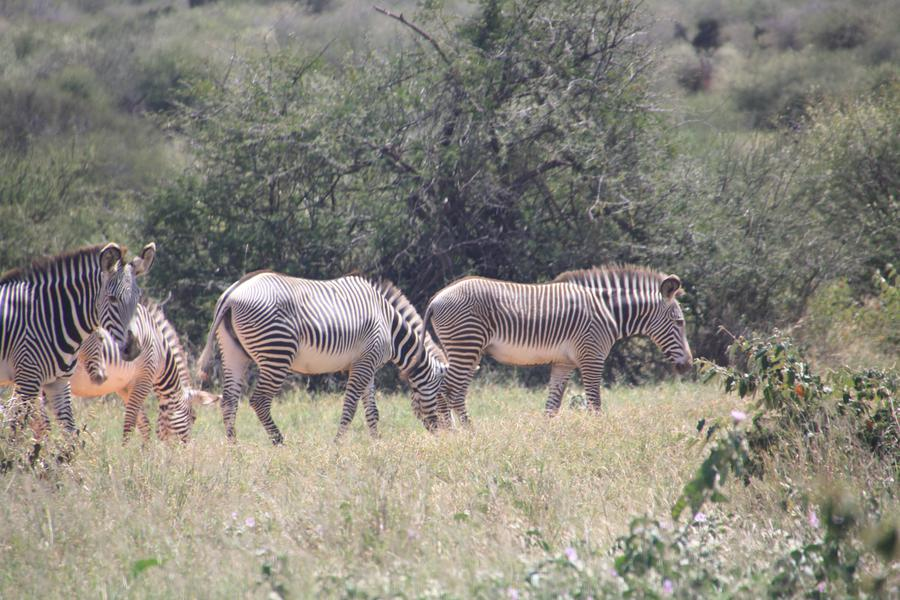zebra_grevys: (428, 263, 611, 362)
